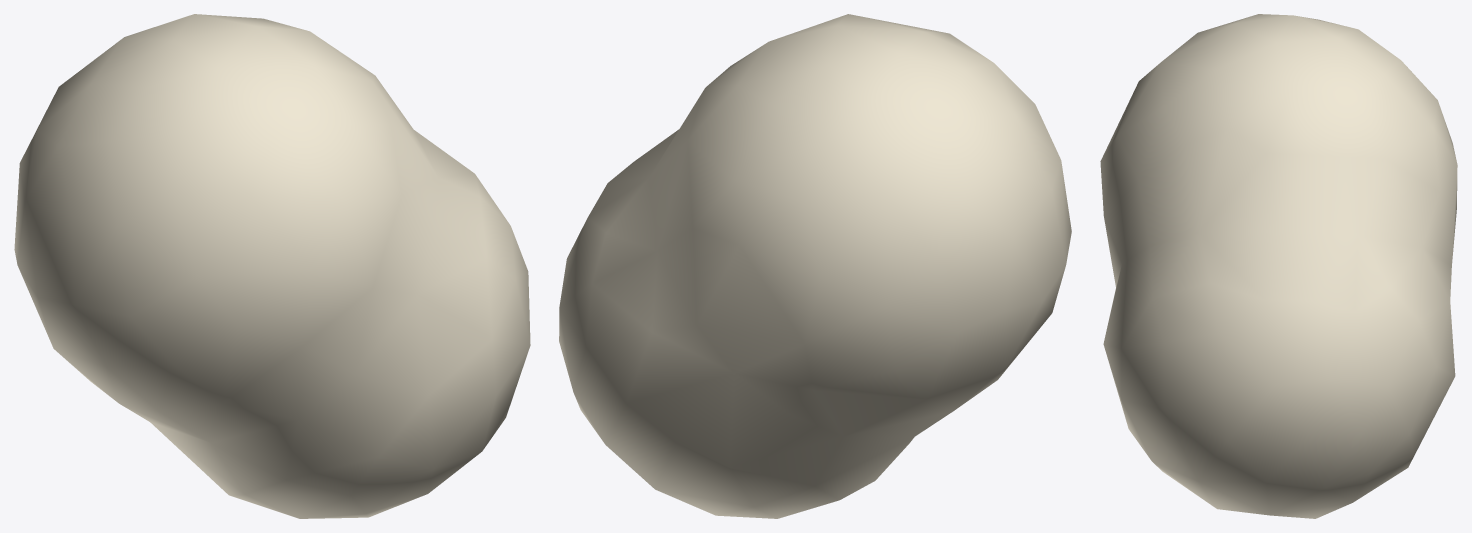
The model's file is caudal_6.glb.
3 views of the same model, side by side, from view 1: azimuth 30°, elevation 25°; view 2: azimuth 150°, elevation 25°; view 3: azimuth 270°, elevation 25° (orthographic). The views are drawn at different scales.
Parts seen in each view (by area): view 1: geometry_0; view 2: geometry_0; view 3: geometry_0.
Part boxes in pixels (bbox=[...]): geometry_0: bbox=[14, 14, 530, 518]; geometry_0: bbox=[559, 14, 1071, 518]; geometry_0: bbox=[1100, 14, 1457, 518].
Size of the model in its own units: 0.0524 by 0.0536 by 0.0404.
